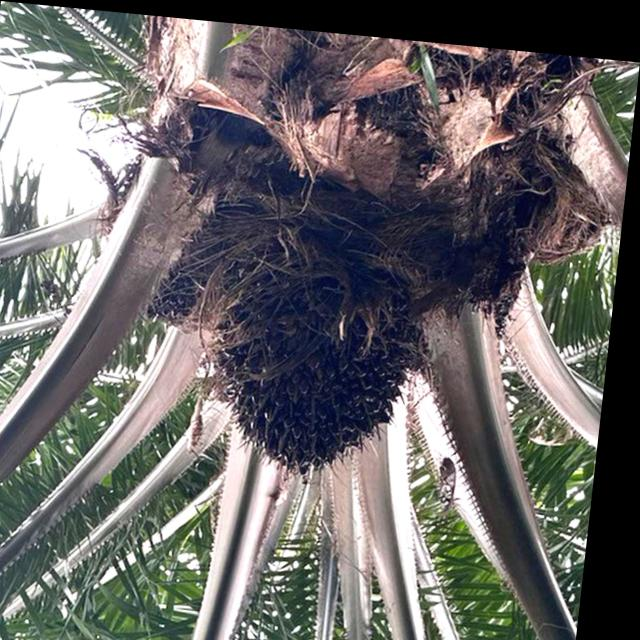ripe: (207, 218, 436, 482), (150, 254, 204, 328)
